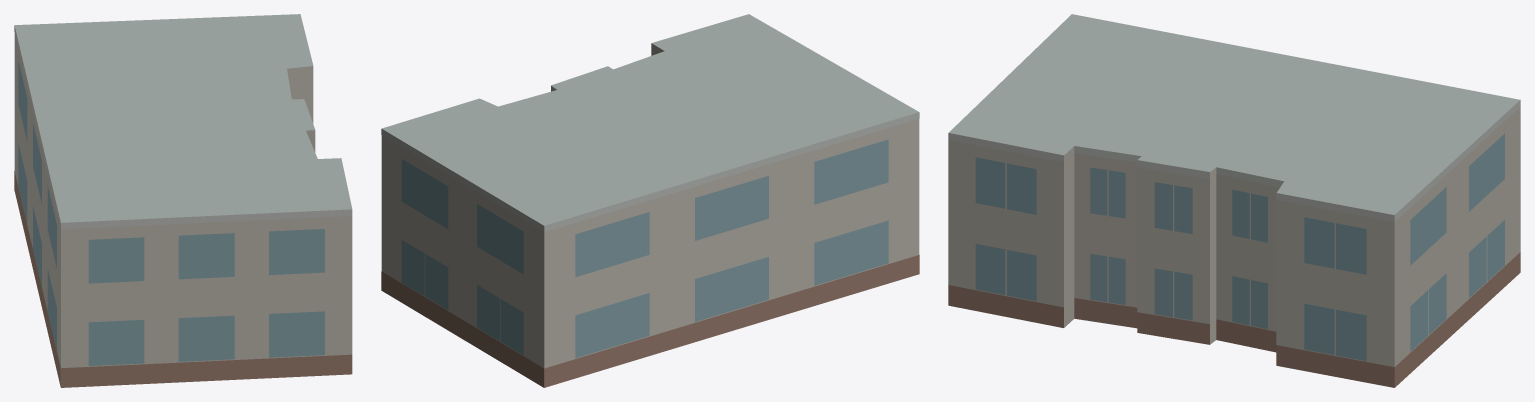
Rendered from survey-upis-32972326.glb.
3 views of the same model, side by side, from view 1: azimuth 30°, elevation 25°; view 2: azimuth 150°, elevation 25°; view 3: azimuth 270°, elevation 25° (orthographic). The views are drawn at different scales.
Visible parts, largest first — view 1: survey-upis-32972326.tmp; view 2: survey-upis-32972326.tmp; view 3: survey-upis-32972326.tmp.
Part boxes in pixels (bbox=[...]): survey-upis-32972326.tmp: bbox=[14, 14, 352, 387]; survey-upis-32972326.tmp: bbox=[381, 14, 919, 387]; survey-upis-32972326.tmp: bbox=[948, 14, 1520, 387].
Size of the model in its own units: 15.24 by 6.1 by 18.32.
